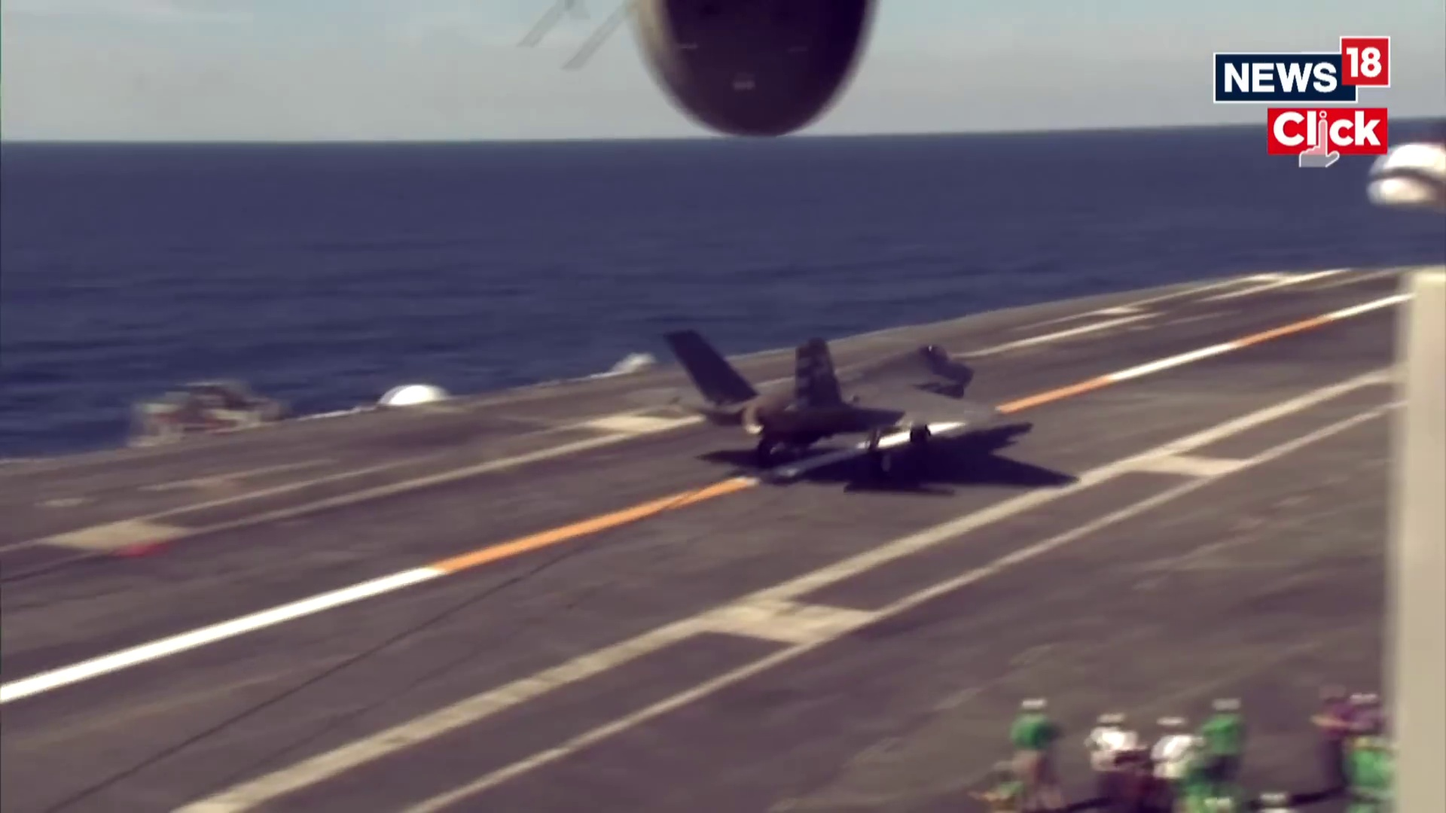F35: (664, 329, 1034, 468)
